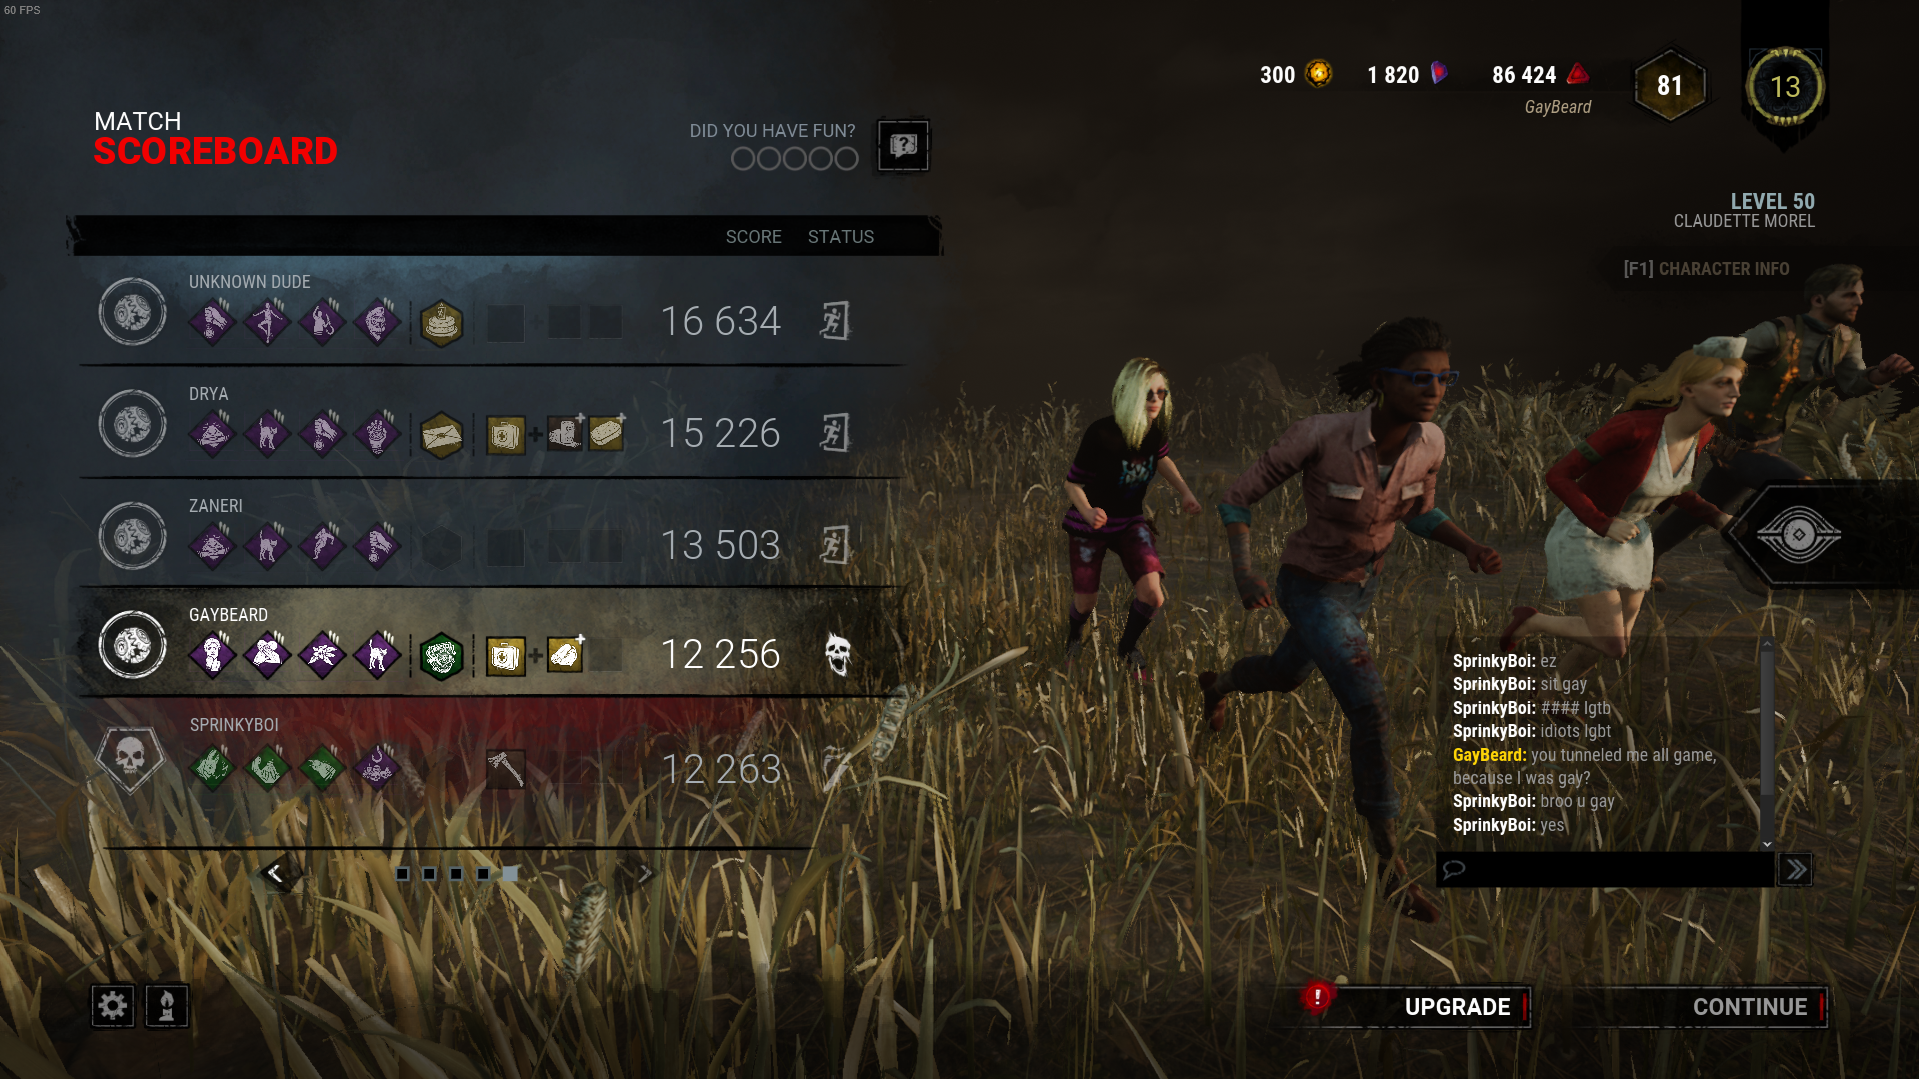balanced_landing: (243, 296, 291, 345)
bitter_murmur: (244, 743, 293, 790)
borrowed_time: (187, 296, 236, 345), (297, 408, 345, 457), (353, 520, 402, 569)
botany_knowledge: (297, 630, 347, 678)
dead_hard: (298, 520, 347, 569)
empathy: (243, 631, 291, 678)
hex:huntress_lullaby: (185, 742, 235, 790)
iron_will: (186, 408, 235, 457), (185, 520, 235, 568)
monstrous_shrine: (352, 744, 401, 792)
resilience: (186, 631, 235, 678)
soul_guard: (351, 408, 399, 457)
spies_from_the_shadow: (298, 742, 347, 790)
spine_chill: (241, 408, 290, 457), (243, 520, 291, 569), (352, 630, 401, 678)
unbreakable: (352, 298, 401, 346)
well_make_it: (297, 296, 347, 345)
